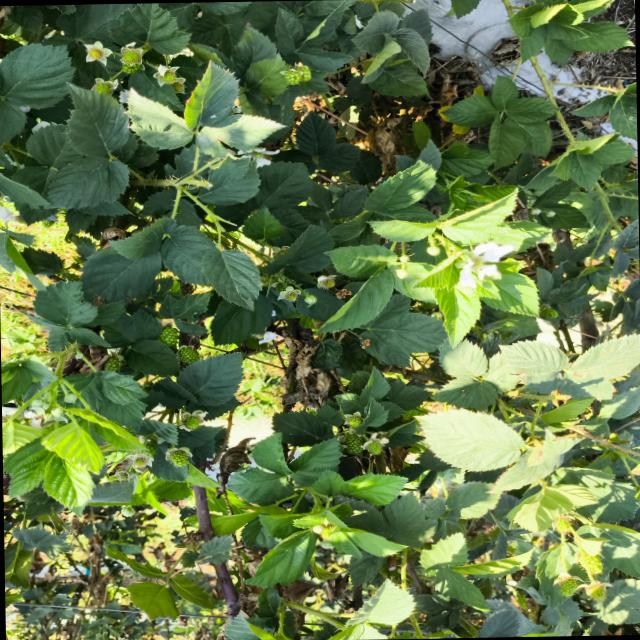boton: (426, 244, 440, 255), (304, 294, 317, 305), (396, 268, 408, 278), (399, 255, 409, 262)
flor: (459, 241, 513, 288), (237, 147, 279, 167)
